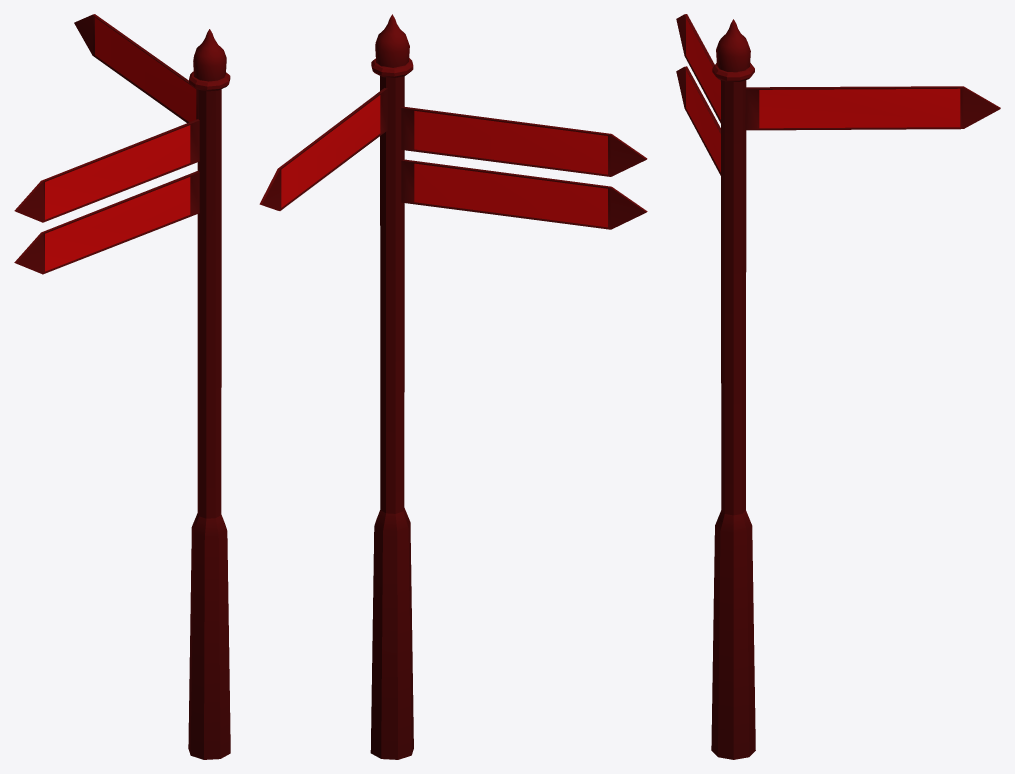
The model's file is Signpost002.glb.
3 views of the same model, side by side, from view 1: azimuth 30°, elevation 25°; view 2: azimuth 150°, elevation 25°; view 3: azimuth 270°, elevation 25° (orthographic).
Parts seen in each view (by area): view 1: Signpost002; view 2: Signpost002; view 3: Signpost002.
Part boxes in pixels (x1,y1,x2,y2): Signpost002: (14,14,230,759); Signpost002: (259,14,647,759); Signpost002: (676,14,1000,759).
Bounding box in the file's own units: 5 × 14.42 × 5.74.
